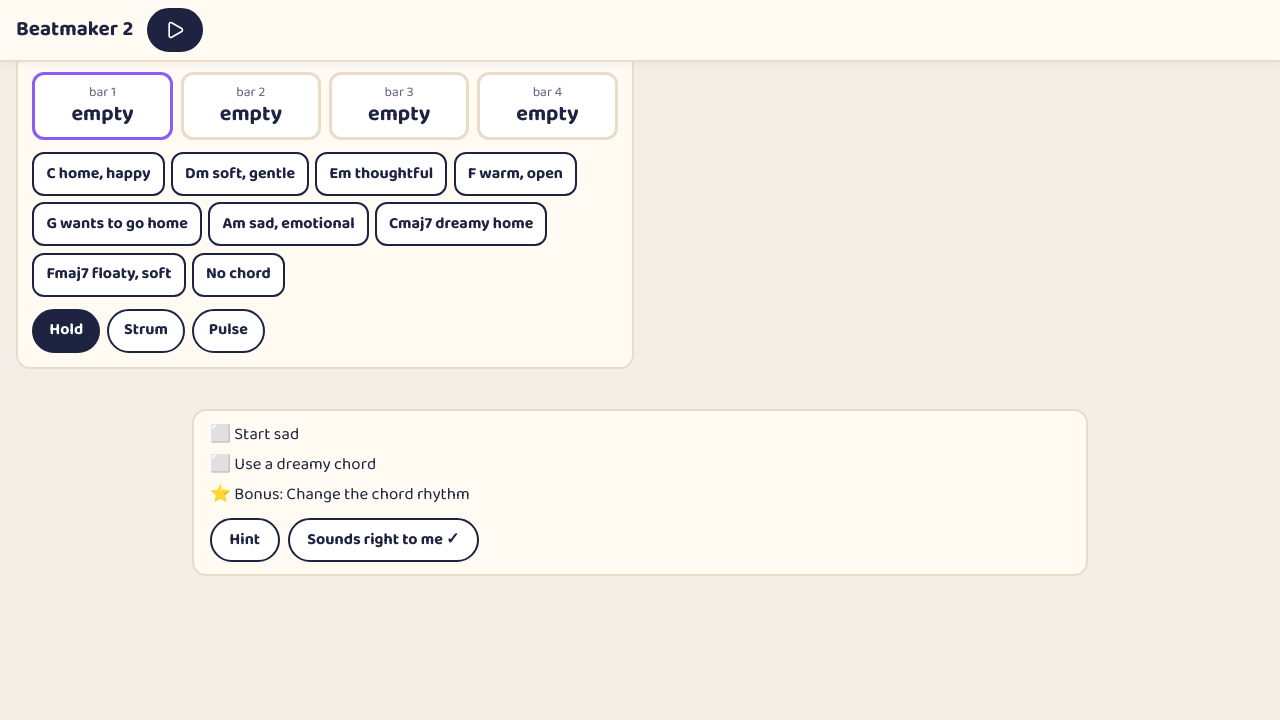
Scenario: Lesson › level 8: the self-check button shows and only meets the dreamy-chord goal
The image size is (1280, 720).
(page scrolled)
Click the button "Sounds right to me ✓" at (383, 540), box [288,518,479,562]
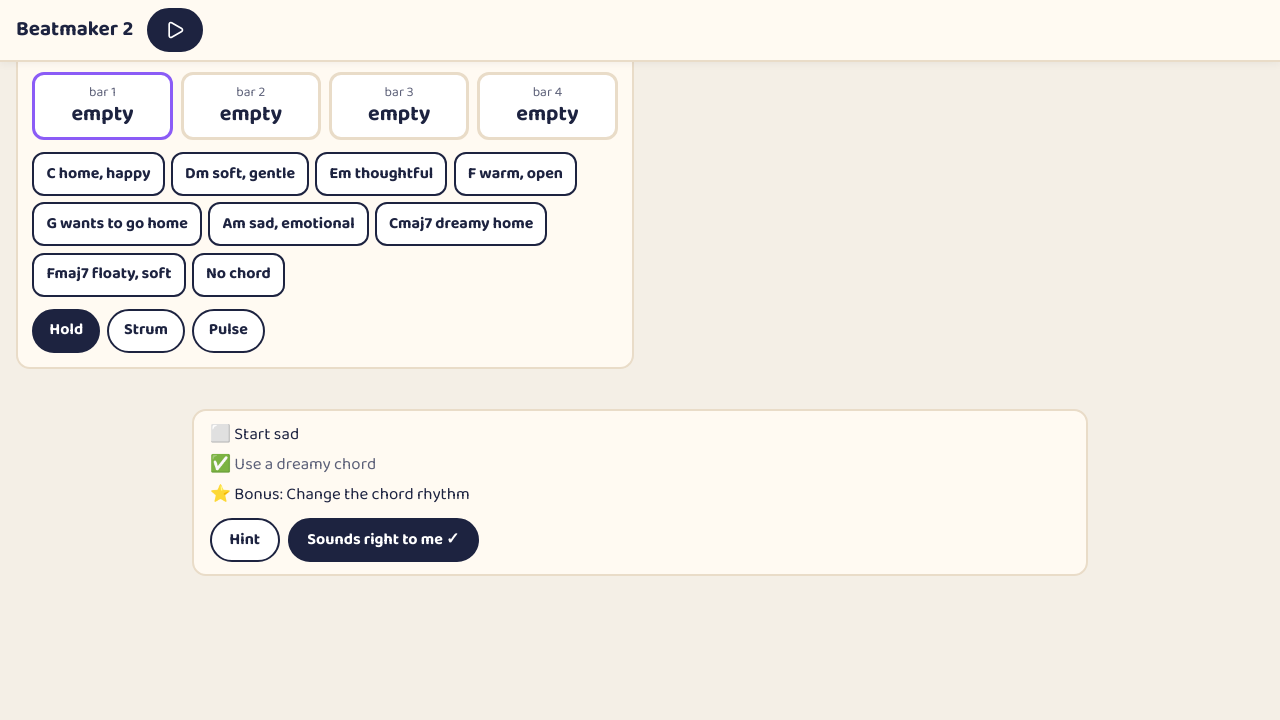
expect the list item "Start sad" shows "⬜": met, box [210,421,231,448]
expect the list item "Use a dreamy chord" shows "✅": met, box [210,451,231,478]
